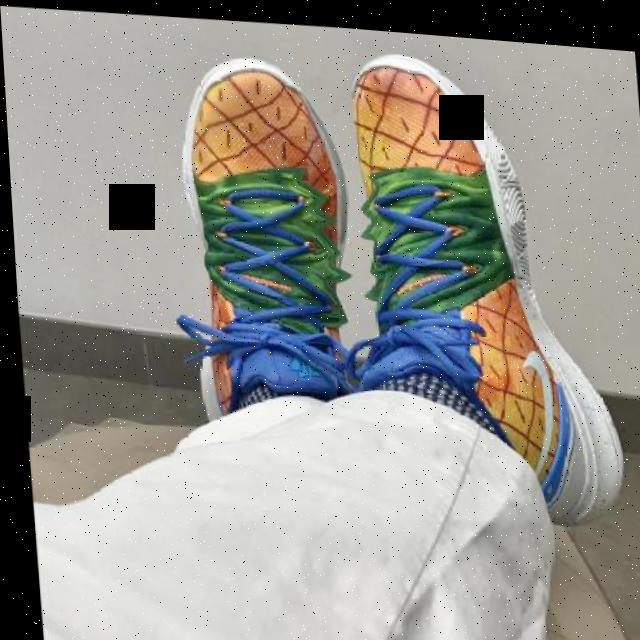shoes: (326, 36, 633, 536), (148, 38, 373, 439)
